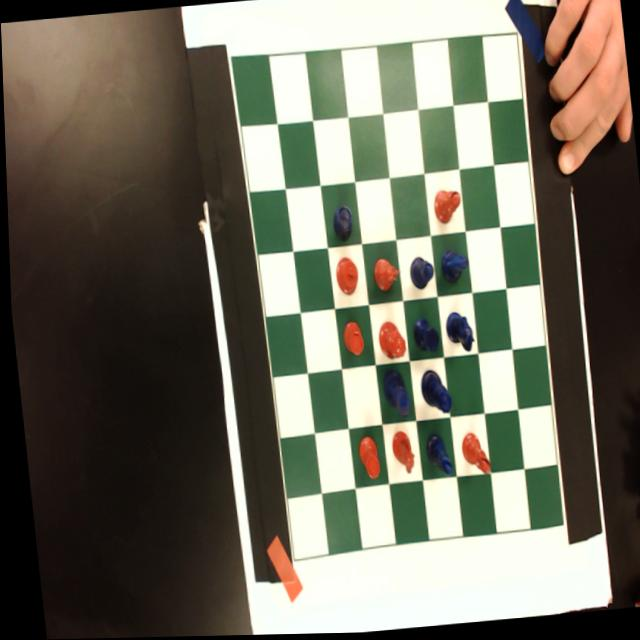B: (419, 430, 450, 482), (404, 251, 433, 293)
K: (376, 366, 409, 422)
N: (439, 309, 473, 355), (434, 246, 469, 289)
Q: (414, 366, 449, 417)
R: (407, 318, 437, 356), (326, 203, 352, 242)
b: (455, 430, 487, 481), (428, 187, 462, 228)
k: (330, 256, 357, 297)
n: (384, 429, 413, 479), (367, 256, 399, 294)
q: (372, 319, 403, 364)
r: (351, 434, 376, 482), (336, 317, 362, 358)
